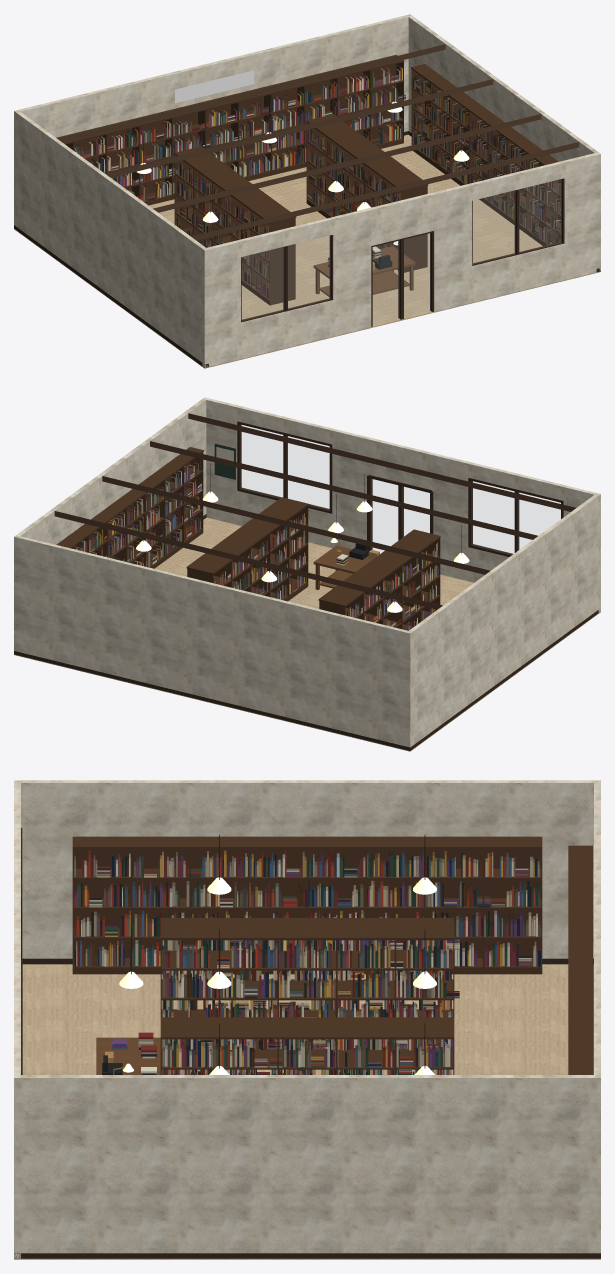
Rendered from bookstore_interior.glb.
The picture shows the model from 3 angles, top to bottom: view 1: azimuth 30°, elevation 25°; view 2: azimuth 150°, elevation 25°; view 3: azimuth 270°, elevation 25°; orthographic projection. The views are drawn at different scales.
Parts seen in each view (by area): view 1: bk_shelf, WALL_front_wall, WALL_left_wall, bk_books, WALL_front_glass, WALL_back_wall, bk_floor, bk_beams, WALL_right_wall, WALL_front_frame, bk_table, WALL_back_SIGN_FACE_note (+2 smaller); view 2: WALL_back_wall, WALL_left_wall, bk_shelf, WALL_front_wall, WALL_front_glass, bk_beams, bk_books, WALL_right_wall, bk_floor, WALL_front_frame, WALL_back_frame, bk_table (+3 smaller); view 3: WALL_right_wall, bk_shelf, bk_books, WALL_left_wall, bk_floor, WALL_right_frame, WALL_front_wall, WALL_back_wall, bk_lampshade, bk_table, bk_black.
Boxes of the visible parts, x1,y1,x2,y2 form: bk_shelf: (56,54,560,305); WALL_front_wall: (202,153,600,367); WALL_left_wall: (14,110,208,364); bk_books: (70,65,560,298); WALL_front_glass: (242,179,561,323); WALL_back_wall: (14,14,411,225); bk_floor: (14,134,600,368); bk_beams: (58,44,579,240); WALL_right_wall: (407,15,600,268); WALL_front_frame: (241,178,564,326); bk_table: (313,246,415,296); WALL_back_SIGN_FACE_note: (175,70,254,103); WALL_back_wall: (14,536,412,747); WALL_left_wall: (406,493,599,747); bk_shelf: (56,447,440,630); WALL_front_wall: (203,397,600,612); WALL_front_glass: (241,425,560,553); bk_beams: (54,413,575,609); bk_books: (73,459,438,630); WALL_right_wall: (14,397,207,651); bk_floor: (14,517,600,751); WALL_front_frame: (237,421,563,556); WALL_back_frame: (14,651,412,750); bk_table: (313,545,371,589); WALL_right_wall: (14,1075,600,1253); bk_shelf: (72,836,592,1074); bk_books: (74,850,540,1074); WALL_left_wall: (14,780,600,958); bk_floor: (14,964,600,1259); WALL_right_frame: (14,1253,600,1258); WALL_front_wall: (14,780,20,1258); WALL_back_wall: (594,780,600,1253); bk_lampshade: (119,877,436,1074); bk_table: (96,1037,165,1074); bk_black: (102,834,425,1074).
Bounding box in the file's own units: 12 × 3.42 × 10.
Materials: 15 (4 with a texture image).
